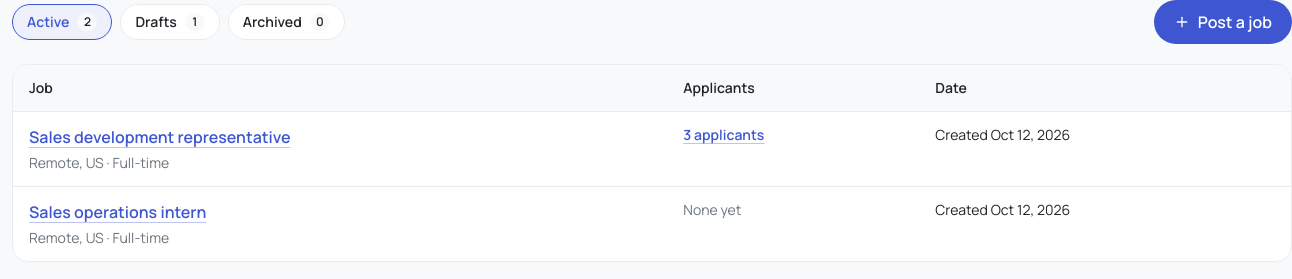
Scenario: JobTable › counts each status on its tab and opens on the active jobs
Expected: the button "Archived 0" is shown, [228,4,345,40]
Click the button "Drafts 1" at (170, 22), box [120,4,220,40]
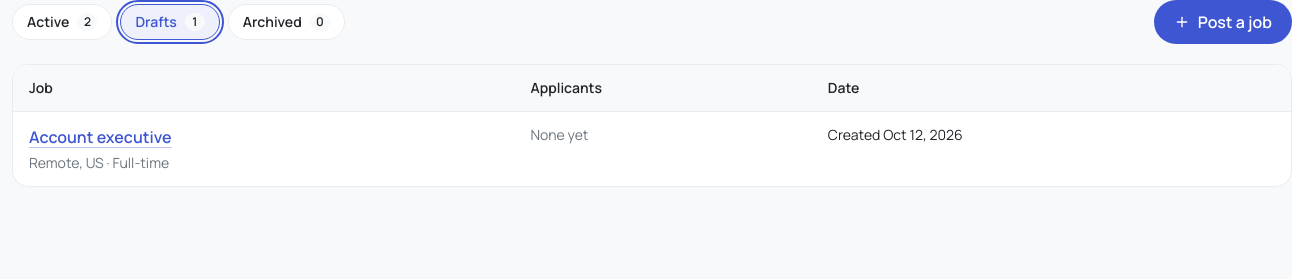
Now the link "Account executive" is shown, box [29,124,172,150]
